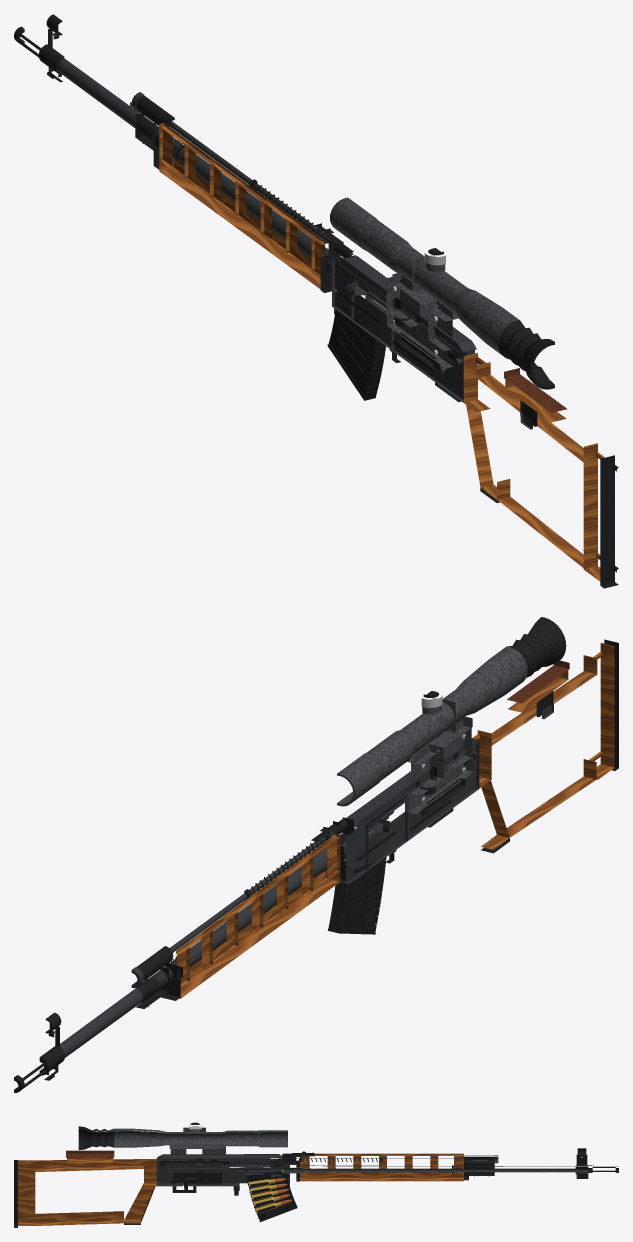
File: svd-v6-cutaway.glb
The picture shows the model from 3 angles, top to bottom: view 1: azimuth 30°, elevation 25°; view 2: azimuth 150°, elevation 25°; view 3: azimuth 270°, elevation 25°; orthographic projection. The views are drawn at different scales.
Visible parts, largest first — view 1: ext_pso1_main_tube, barrel, ext_hg_lower_keel_right, ext_stock_rear_butt_pillar, ext_pso1_rubber_eyecup, ext_buttplate_steel, ext_stock_upper_comb_beam, ext_stock_lower_toe_strut, ext_receiver_wall_right_rear, ext_hg_upper_crest_right, ext_stock_pistol_grip_pillar, ext_receiver_wall_right_below_port (+8 smaller); view 2: ext_pso1_main_tube, barrel, ext_hg_lower_keel_right, ext_stock_rear_butt_pillar, ext_pso1_rubber_eyecup, ext_stock_upper_comb_beam, ext_receiver_wall_right_rear, ext_stock_lower_toe_strut, ext_hg_upper_crest_right, ext_pso1_mount_dovetail_shoe, ext_receiver_wall_right_below_port, int_pusher_rod_body (+10 smaller); view 3: ext_pso1_main_tube, barrel, ext_hg_lower_keel_right, ext_stock_rear_butt_pillar, ext_stock_lower_toe_strut, ext_stock_upper_comb_beam, ext_receiver_wall_right_rear, ext_pso1_rubber_eyecup, ext_stock_pistol_grip_pillar, ext_dust_cover, int_bolt_carrier_body, ext_hg_upper_crest_right (+11 smaller).
Part boxes in pixels (<box>): ext_pso1_main_tube: <box>330,197,518,354</box>; barrel: <box>57,58,331,275</box>; ext_hg_lower_keel_right: <box>159,158,320,288</box>; ext_stock_rear_butt_pillar: <box>583,443,604,581</box>; ext_pso1_rubber_eyecup: <box>498,320,554,389</box>; ext_buttplate_steel: <box>600,455,618,588</box>; ext_stock_upper_comb_beam: <box>476,362,583,462</box>; ext_stock_lower_toe_strut: <box>497,479,583,567</box>; ext_receiver_wall_right_rear: <box>391,329,466,402</box>; ext_hg_upper_crest_right: <box>159,123,325,245</box>; ext_stock_pistol_grip_pillar: <box>466,405,496,499</box>; ext_receiver_wall_right_below_port: <box>351,294,391,349</box>; ext_pso1_main_tube: <box>337,646,527,806</box>; barrel: <box>60,841,346,1057</box>; ext_hg_lower_keel_right: <box>179,870,340,998</box>; ext_stock_rear_butt_pillar: <box>588,643,614,779</box>; ext_pso1_rubber_eyecup: <box>507,617,566,683</box>; ext_stock_upper_comb_beam: <box>491,655,597,745</box>; ext_receiver_wall_right_rear: <box>405,741,479,840</box>; ext_stock_lower_toe_strut: <box>506,759,596,837</box>; ext_hg_upper_crest_right: <box>176,834,340,954</box>; ext_pso1_mount_dovetail_shoe: <box>408,752,473,813</box>; ext_receiver_wall_right_below_port: <box>368,811,407,869</box>; int_pusher_rod_body: <box>169,831,334,952</box>; ext_pso1_main_tube: <box>114,1128,287,1147</box>; barrel: <box>282,1164,588,1173</box>; ext_hg_lower_keel_right: <box>300,1172,463,1181</box>; ext_stock_rear_butt_pillar: <box>18,1160,35,1225</box>; ext_stock_lower_toe_strut: <box>35,1211,123,1225</box>; ext_stock_upper_comb_beam: <box>35,1159,143,1171</box>; ext_receiver_wall_right_rear: <box>156,1158,229,1181</box>; ext_pso1_rubber_eyecup: <box>78,1126,114,1149</box>; ext_stock_pistol_grip_pillar: <box>124,1183,155,1223</box>; ext_dust_cover: <box>157,1154,282,1161</box>; int_bolt_carrier_body: <box>222,1158,270,1167</box>; ext_hg_upper_crest_right: <box>314,1153,463,1155</box>.
Size of the model in its own units: 0.0334 by 0.232 by 1.22.
11 materials, 11 textured.
